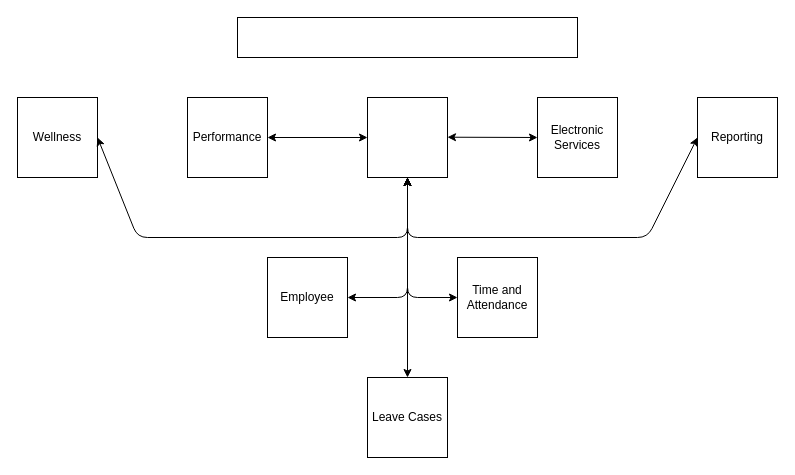
Some shapes in this 795 by 475 pixel diagram are drawn without their labels. Here are the shapes that lost their labels. From the top down, the centre of each, then its label:
At (x=407, y=37): "HR Suite".
At (x=407, y=137): "Dashboard".
